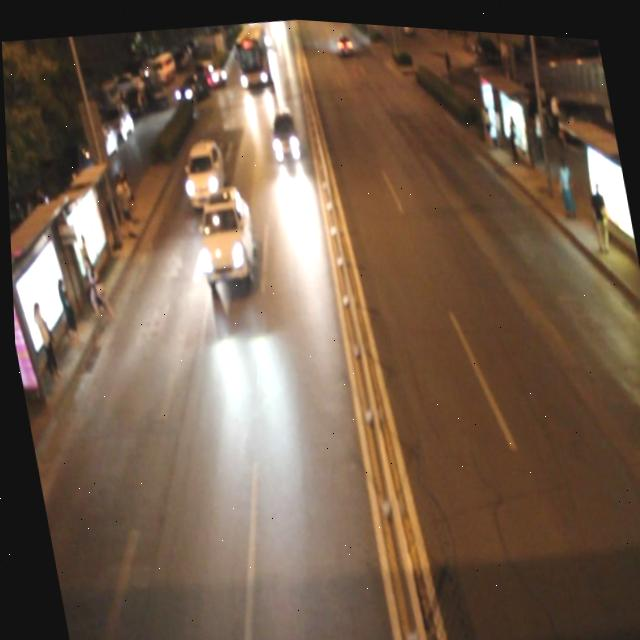car: (187, 178, 262, 293), (176, 130, 230, 209)
truck: (264, 97, 304, 160)
